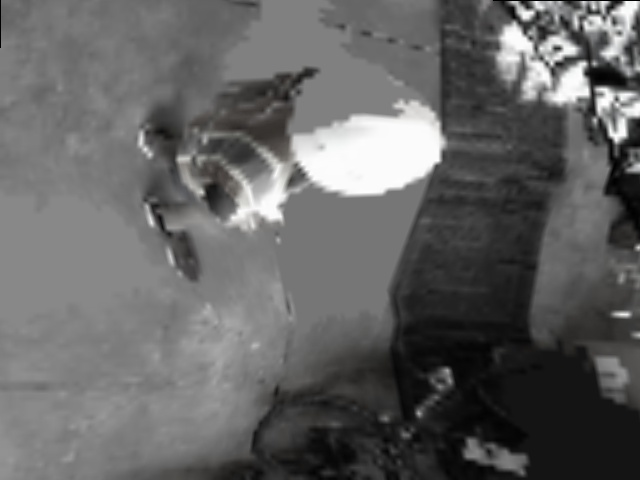two: (321, 77, 363, 125)
